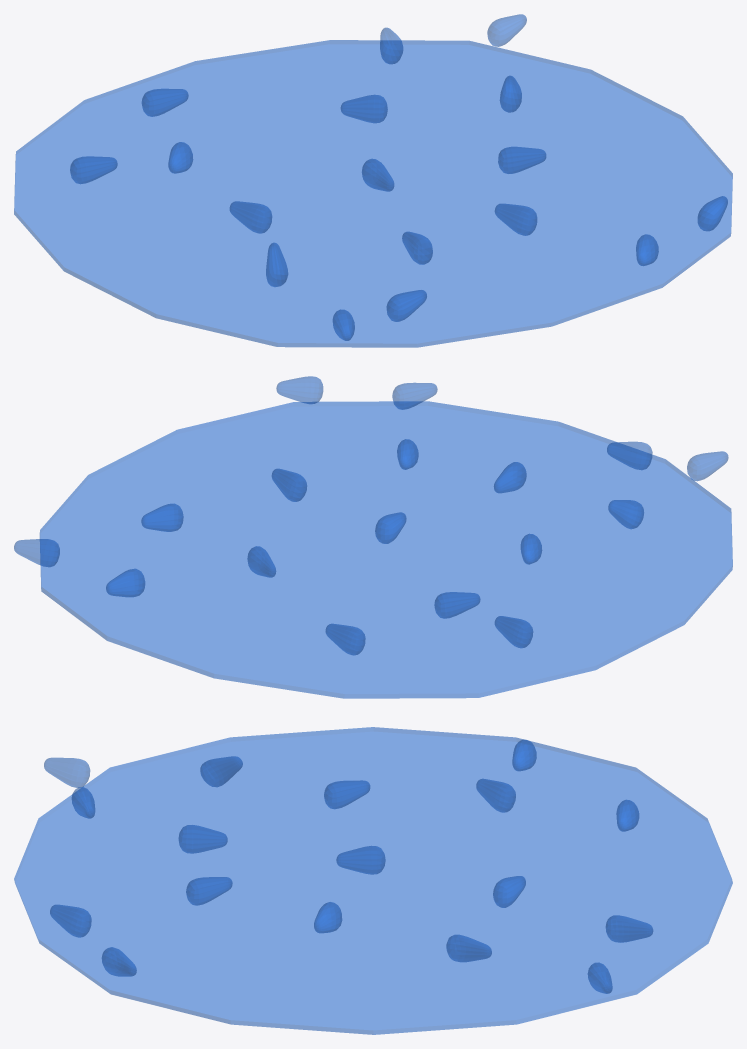
Rendered from GhostSeedRedRaw.fbx.
3 renders of one model, top to bottom at view 1: azimuth 30°, elevation 25°; view 2: azimuth 150°, elevation 25°; view 3: azimuth 270°, elevation 25°, orthographic. The views are drawn at different scales.
Visible parts, largest first — view 1: GhostSeedRed; view 2: GhostSeedRed; view 3: GhostSeedRed.
Part boxes in pixels (box(x1,y1,x2,y2)): GhostSeedRed: box(14, 14, 732, 347); GhostSeedRed: box(14, 376, 732, 698); GhostSeedRed: box(14, 727, 732, 1034).
Size of the model in its own units: 138 by 9.35 by 138.
